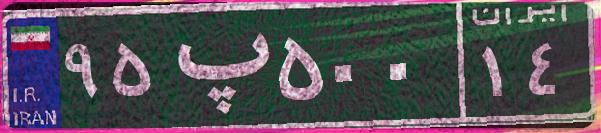0: (385, 28, 445, 110), (330, 28, 385, 110)
1: (475, 38, 525, 113)
4: (525, 38, 570, 115)
5: (273, 28, 330, 110), (110, 28, 158, 105)
9: (57, 26, 110, 107)
پ: (158, 15, 273, 115)
